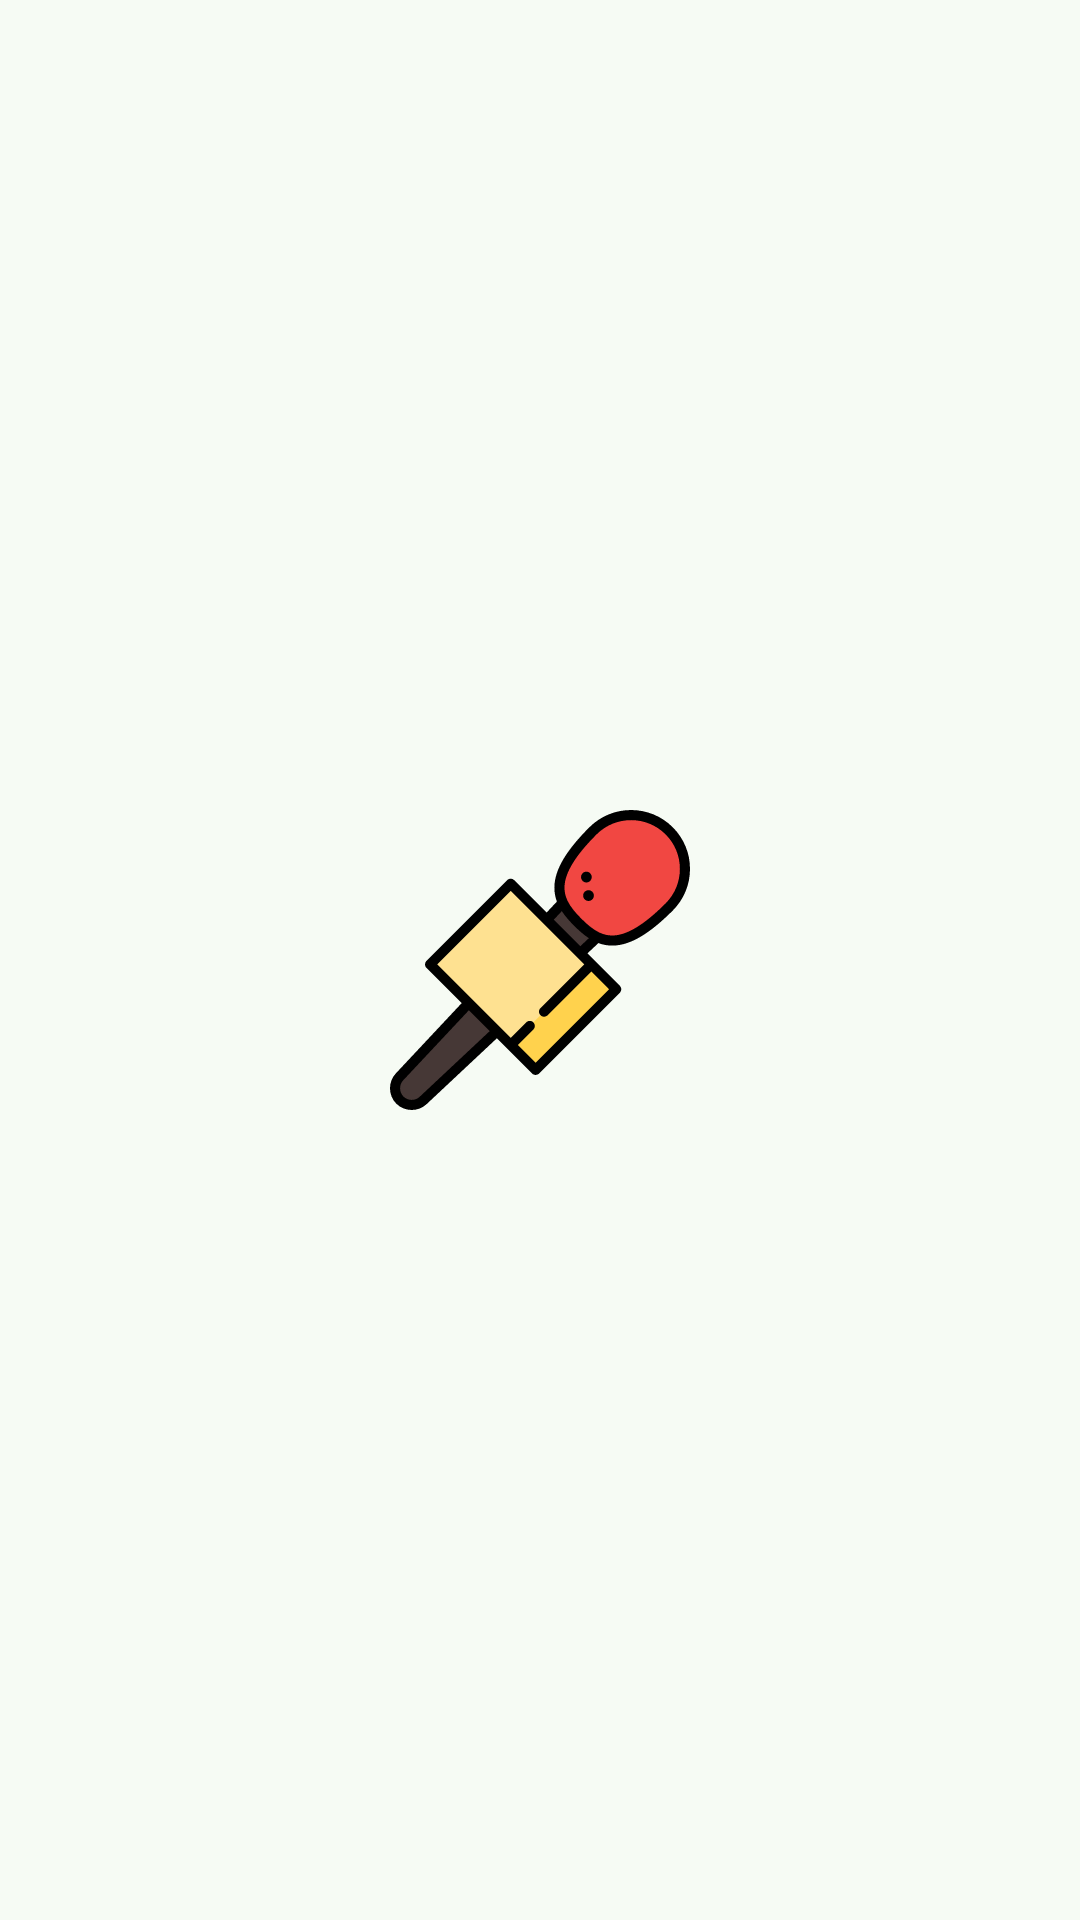

Screen size 1080×1920. Icon name, then its center in pixels as point (x, y):
mic: point (540, 960)
